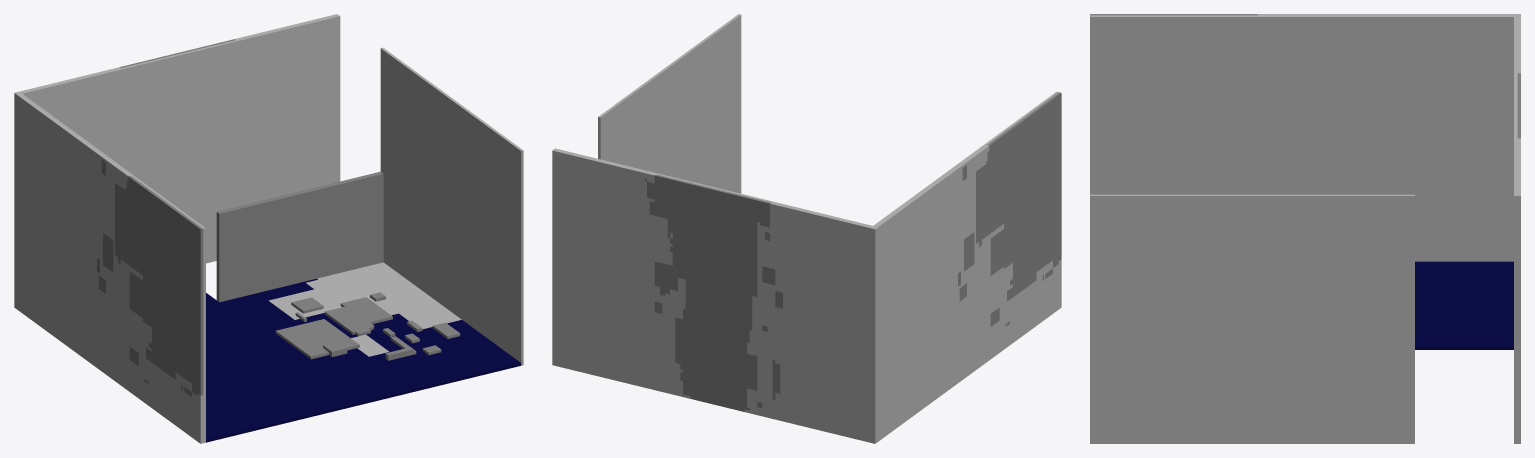
The model's file is 2x2 second (1)-0.obj.
3 views of the same model, side by side, from view 1: azimuth 30°, elevation 25°; view 2: azimuth 150°, elevation 25°; view 3: azimuth 270°, elevation 25° (orthographic). The views are drawn at different scales.
Parts seen in each view (by area): view 1: 2x2 second (1)-0; view 2: 2x2 second (1)-0; view 3: 2x2 second (1)-0.
Boxes of the visible parts, x1,y1,x2,y2 form: 2x2 second (1)-0: (14,14,523,443); 2x2 second (1)-0: (552,14,1061,443); 2x2 second (1)-0: (1090,14,1520,443).
Size of the model in its own units: 126 by 80 by 126.
Materials: 1 (1 with a texture image).
